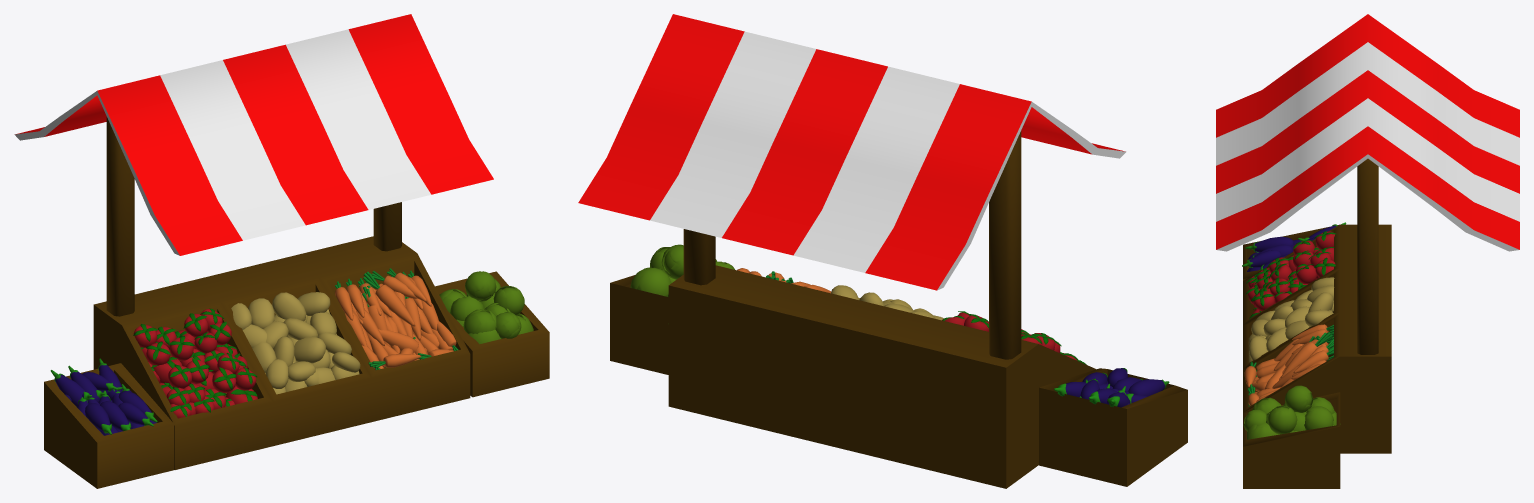
The model's file is Market_RedTeam.fbx.
3 views of the same model, side by side, from view 1: azimuth 30°, elevation 25°; view 2: azimuth 150°, elevation 25°; view 3: azimuth 270°, elevation 25° (orthographic). The views are drawn at different scales.
Parts seen in each view (by area): view 1: Market_RedTeam; view 2: Market_RedTeam; view 3: Market_RedTeam.
Part boxes in pixels (x1,y1,x2,y2): Market_RedTeam: (14,14,549,488); Market_RedTeam: (578,14,1187,488); Market_RedTeam: (1216,14,1519,488).
Size of the model in its own units: 1553 by 1088 by 987.
